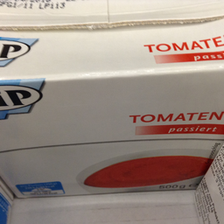tomato_sauce: (1, 1, 224, 200)
